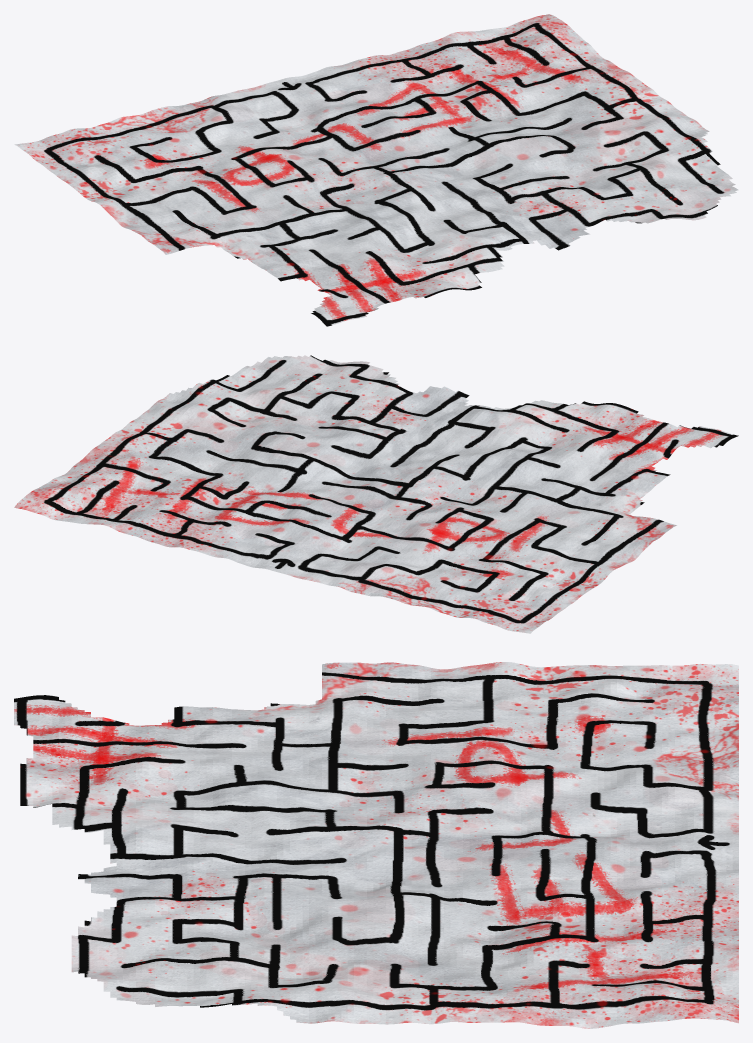
The model's file is map3_4.fbx.
3 renders of one model, top to bottom at view 1: azimuth 30°, elevation 25°; view 2: azimuth 150°, elevation 25°; view 3: azimuth 270°, elevation 25°, orthographic. The views are drawn at different scales.
Parts seen in each view (by area): view 1: Cube.004; view 2: Cube.004; view 3: Cube.004.
Part boxes in pixels (left/top/right/bottom): Cube.004: left=14, top=14, right=738, bottom=326; Cube.004: left=14, top=355, right=738, bottom=633; Cube.004: left=14, top=662, right=738, bottom=1028.
Size of the model in its own units: 706 by 16.22 by 605.
